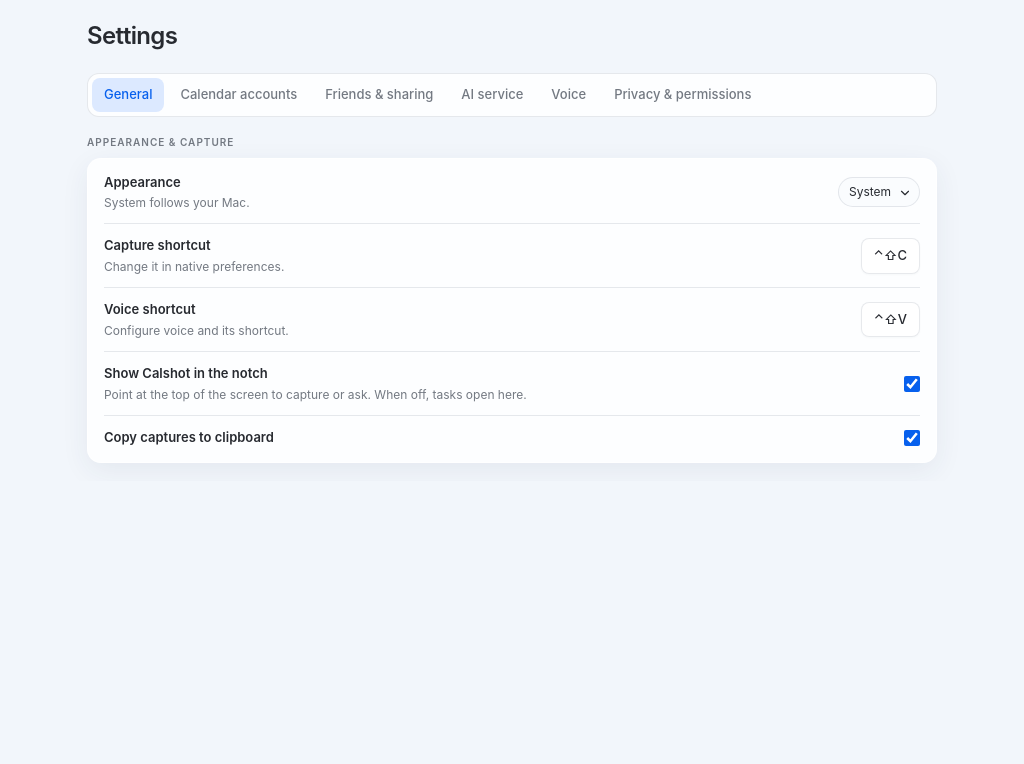
separates connections and AI from general settings
Expected: the dropdown named "Appearance" is shown, [838,177,920,207]
Click the button "Calendar accounts".
click(239, 95)  # box [168,78,309,112]
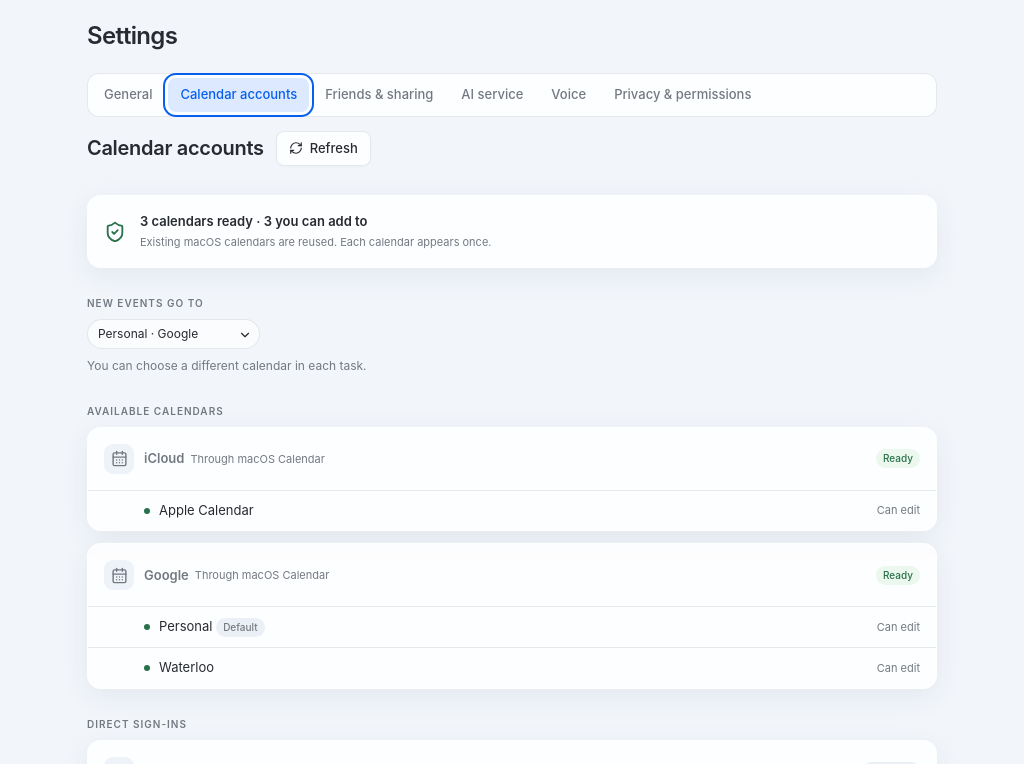
Now the heading "Calendar accounts" is shown, box [87,133,264,163]
Now the dropdown named "Default destination for new events" is shown, box [87,319,260,349]
Now the heading "Appearance" is gone
Click the button "AI service".
click(492, 95)  # box [449,78,535,112]
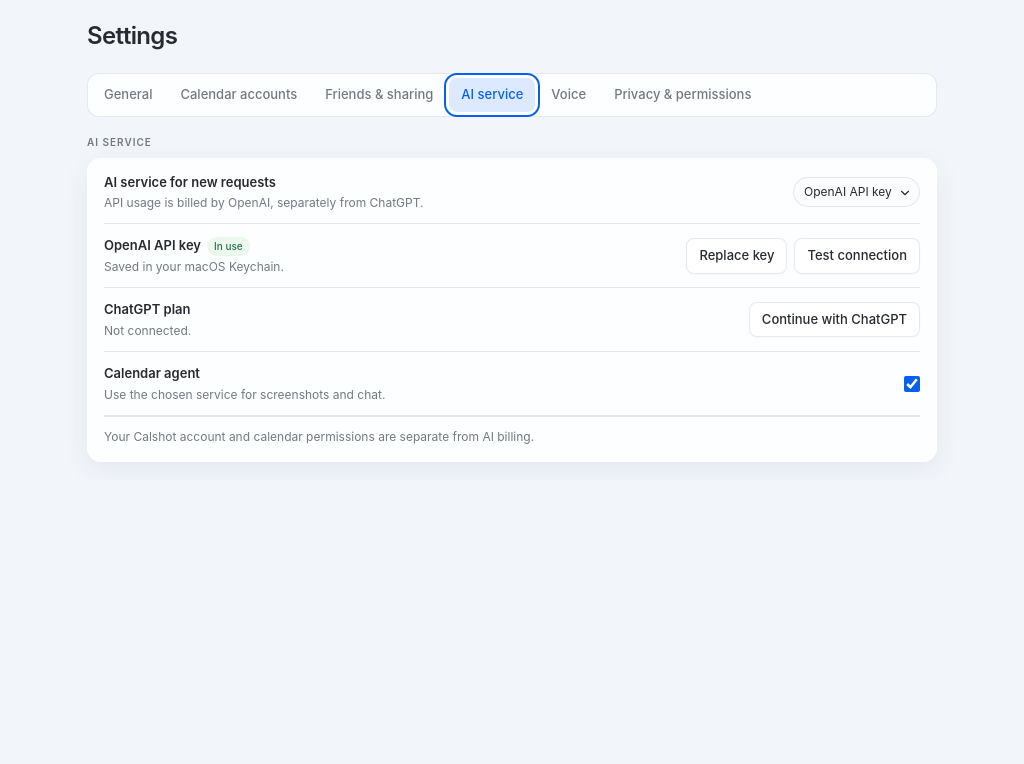
Now the dropdown named "AI service" is shown, box [793,177,920,207]
